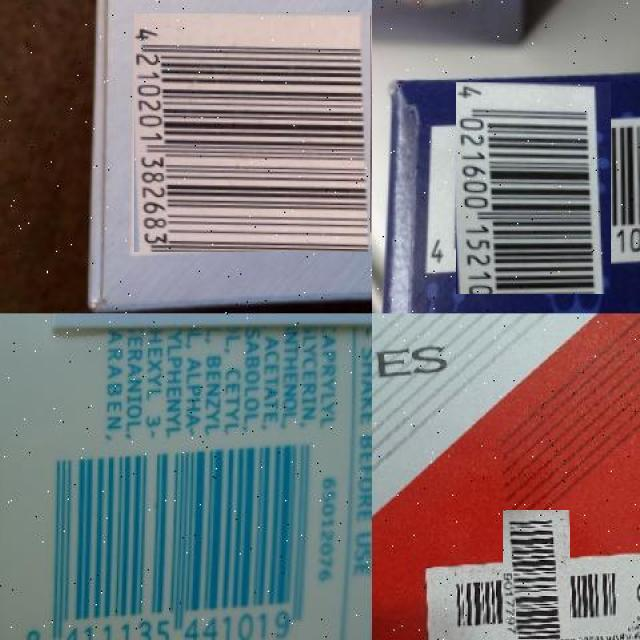Barcode: (19, 432, 322, 640), (132, 12, 371, 251), (442, 96, 626, 280), (475, 537, 598, 640)
